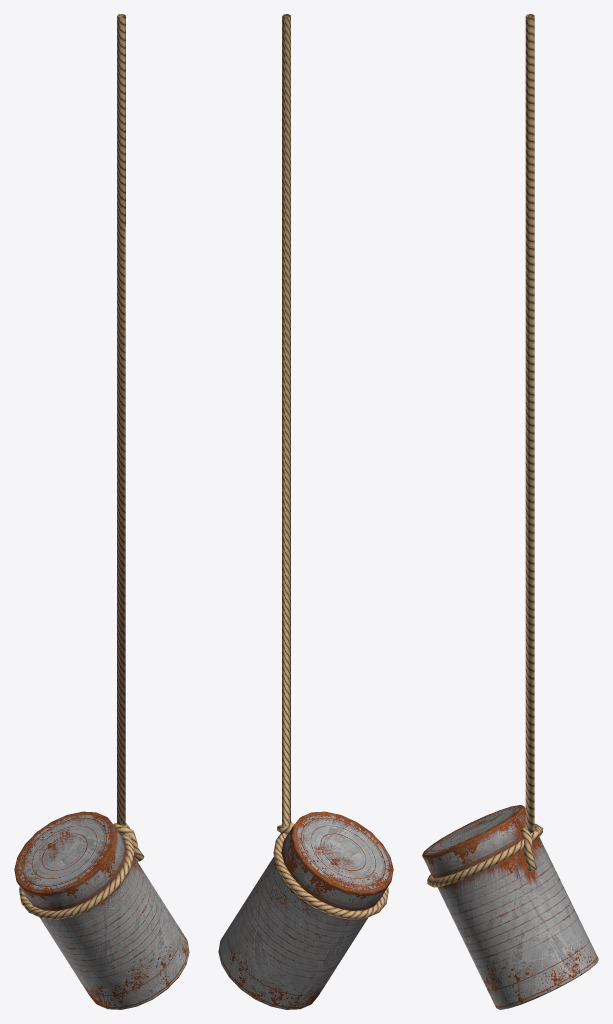
Rendered from TinCan 03.FBX.
The picture shows the model from 3 angles, left to right: view 1: azimuth 30°, elevation 25°; view 2: azimuth 150°, elevation 25°; view 3: azimuth 330°, elevation 25°; orthographic projection.
Parts seen in each view (by area): view 1: TinCan 03; view 2: TinCan 03; view 3: TinCan 03.
Part boxes in pixels (left/top/right/bottom): TinCan 03: left=14, top=14, right=189, bottom=1009; TinCan 03: left=218, top=14, right=393, bottom=1009; TinCan 03: left=422, top=14, right=598, bottom=1009.
Size of the model in its own units: 12.1 by 71.78 by 8.47.
Materials: 1 (1 with a texture image).
